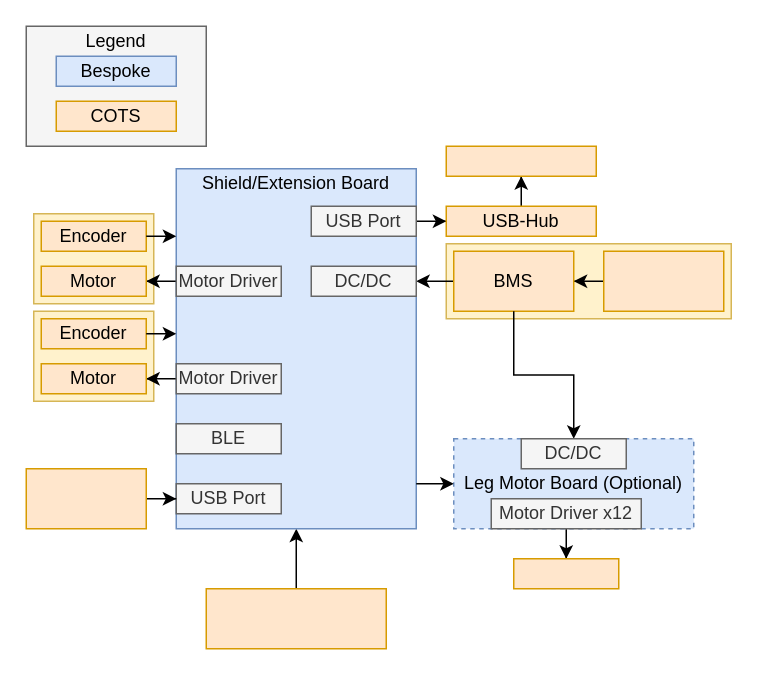
This 758x675 diagram has some shape labels left out. The box of each missing label's shape, as (x1, y1, x2, y2) in pixels:
Battery: (602, 250, 724, 311)
Dev Board: (205, 587, 386, 649)
iPhone: (25, 467, 146, 529)
LiDAR, IR, etc: (445, 145, 596, 176)
Servo motor: (512, 557, 619, 589)
